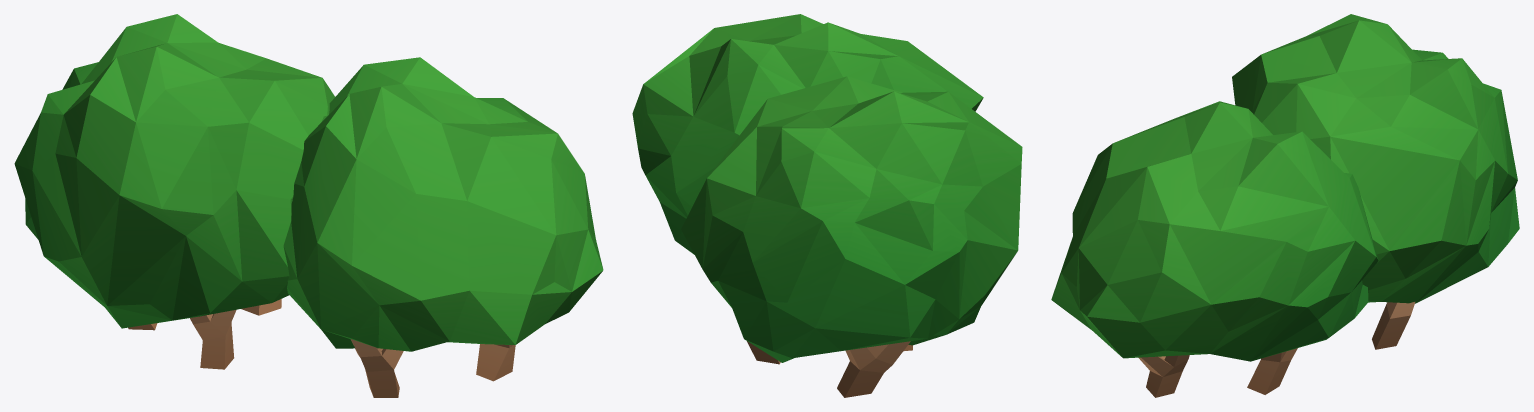
File: Bush_group_average1.fbx
3 views of the same model, side by side, from view 1: azimuth 30°, elevation 25°; view 2: azimuth 150°, elevation 25°; view 3: azimuth 270°, elevation 25° (orthographic). The views are drawn at different scales.
Parts seen in each view (by area): view 1: Bush_group_average; view 2: Bush_group_average; view 3: Bush_group_average.
Boxes of the visible parts, left/top/right/bottom form: Bush_group_average: left=14, top=14, right=603, bottom=397; Bush_group_average: left=632, top=14, right=1022, bottom=397; Bush_group_average: left=1051, top=14, right=1519, bottom=397.
Bounding box in the file's own units: 506 × 332 × 520.
